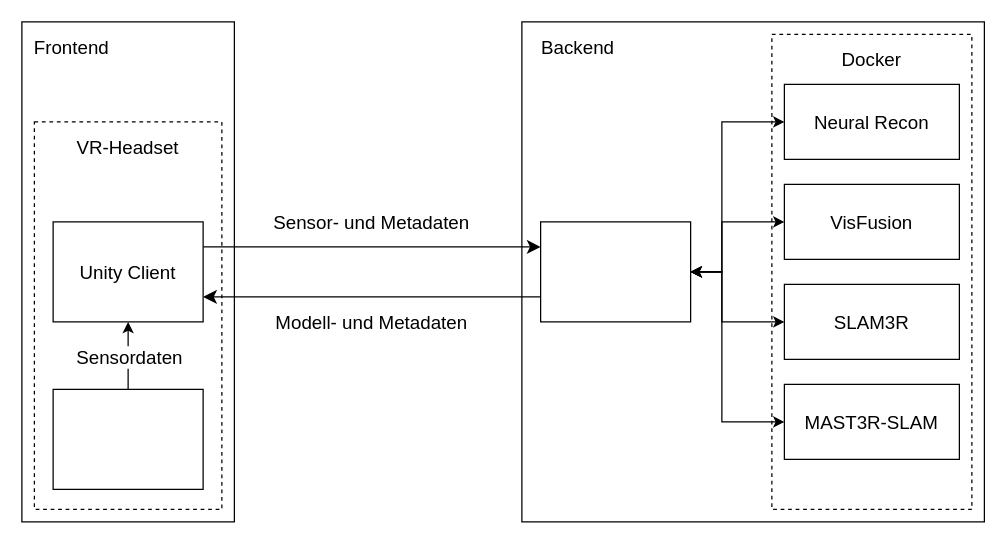
This 1006x544 diagram has some shape labels left out. Here are the shapes that lost their labels. From the top down, the centre of each, then its label:
At point (615, 271): "Router".
At point (127, 438): "Kamera".
